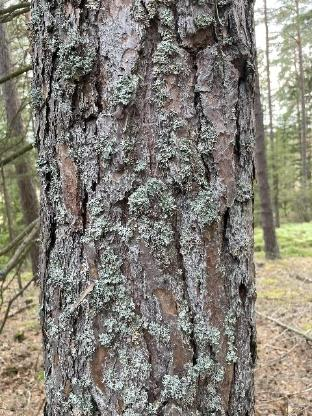tree: (21, 0, 268, 416)
